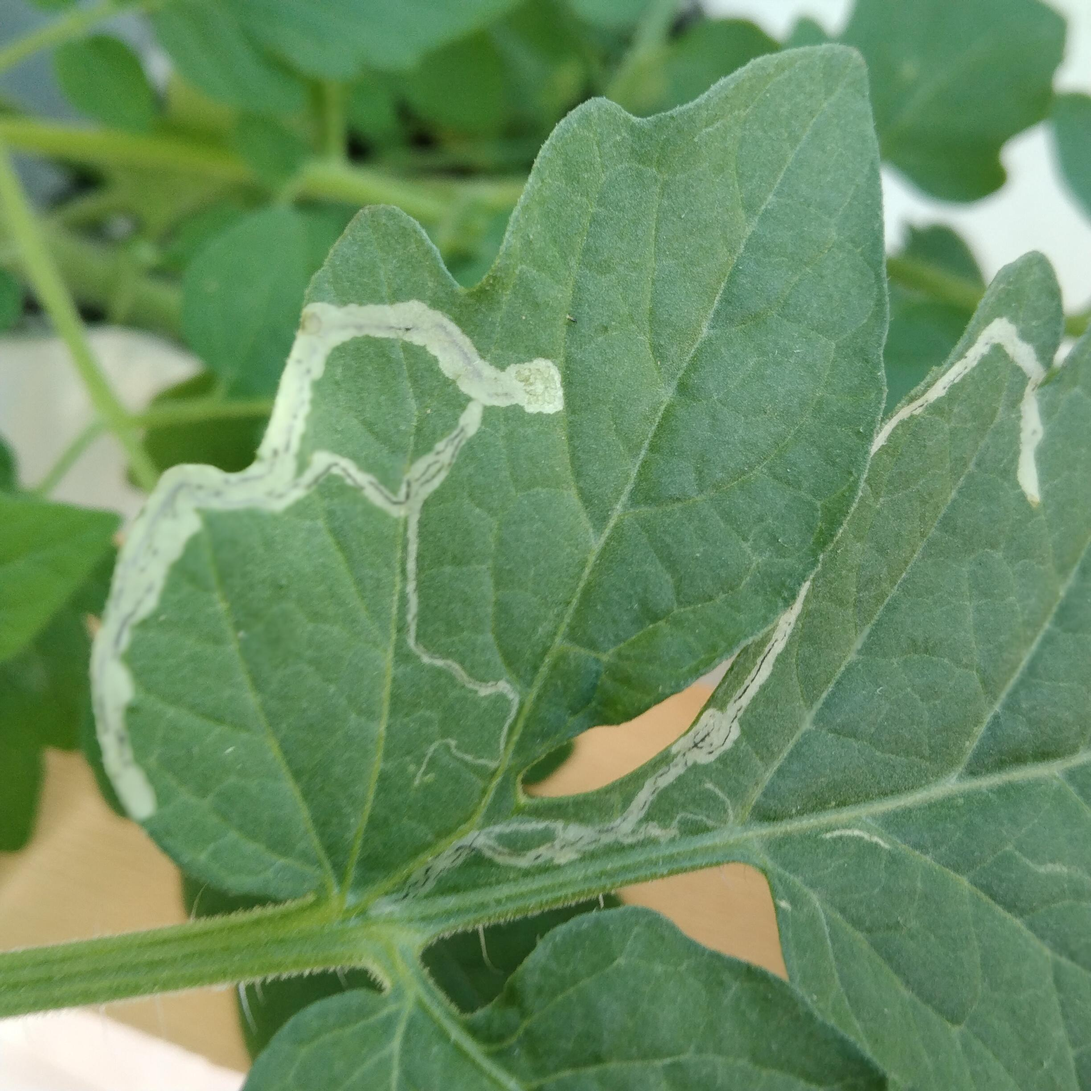Leaf_Miner: (85, 31, 894, 900)
